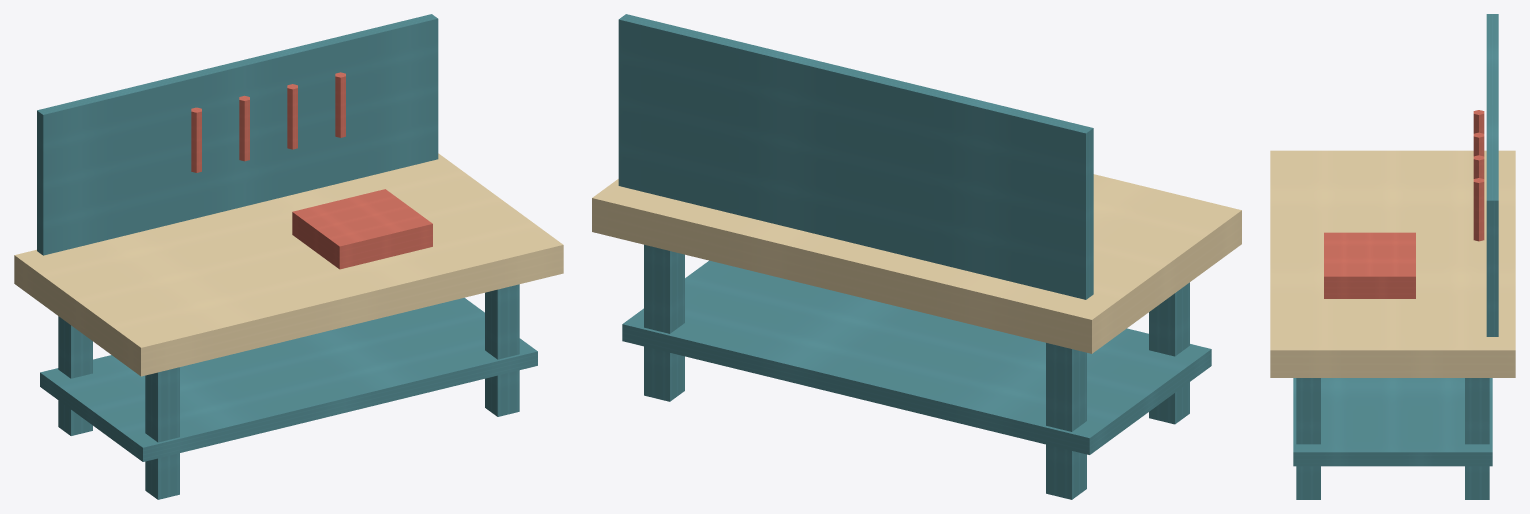
File: atlas100-s072-a06.lod2.glb
The picture shows the model from 3 angles, left to right: view 1: azimuth 30°, elevation 25°; view 2: azimuth 150°, elevation 25°; view 3: azimuth 270°, elevation 25°; orthographic projection. The views are drawn at different scales.
Parts seen in each view (by area): view 1: atlas100-s072-a06:part-004, atlas100-s072-a06:part-006, atlas100-s072-a06:part-005, atlas100-s072-a06:part-012, atlas100-s072-a06:part-003, atlas100-s072-a06:part-001, atlas100-s072-a06:part-000, atlas100-s072-a06:part-009, atlas100-s072-a06:part-010, atlas100-s072-a06:part-011, atlas100-s072-a06:part-008; view 2: atlas100-s072-a06:part-006, atlas100-s072-a06:part-005, atlas100-s072-a06:part-004, atlas100-s072-a06:part-000, atlas100-s072-a06:part-002, atlas100-s072-a06:part-001; view 3: atlas100-s072-a06:part-004, atlas100-s072-a06:part-005, atlas100-s072-a06:part-012, atlas100-s072-a06:part-006, atlas100-s072-a06:part-002, atlas100-s072-a06:part-003, atlas100-s072-a06:part-011.
Part boxes in pixels (left/top/right/bottom): atlas100-s072-a06:part-004: left=14, top=153, right=563, bottom=376; atlas100-s072-a06:part-006: left=37, top=14, right=438, bottom=255; atlas100-s072-a06:part-005: left=40, top=297, right=537, bottom=461; atlas100-s072-a06:part-012: left=292, top=189, right=432, bottom=269; atlas100-s072-a06:part-003: left=485, top=284, right=519, bottom=416; atlas100-s072-a06:part-001: left=145, top=367, right=179, bottom=499; atlas100-s072-a06:part-000: left=58, top=316, right=92, bottom=435; atlas100-s072-a06:part-009: left=239, top=95, right=249, bottom=161; atlas100-s072-a06:part-010: left=287, top=84, right=297, bottom=149; atlas100-s072-a06:part-011: left=335, top=72, right=345, bottom=137; atlas100-s072-a06:part-008: left=191, top=107, right=201, bottom=172; atlas100-s072-a06:part-006: left=618, top=14, right=1093, bottom=299; atlas100-s072-a06:part-005: left=622, top=260, right=1211, bottom=454; atlas100-s072-a06:part-004: left=592, top=174, right=1241, bottom=353; atlas100-s072-a06:part-000: left=1046, top=343, right=1086, bottom=499; atlas100-s072-a06:part-002: left=644, top=244, right=684, bottom=401; atlas100-s072-a06:part-001: left=1149, top=282, right=1189, bottom=424; atlas100-s072-a06:part-004: left=1270, top=150, right=1515, bottom=377; atlas100-s072-a06:part-005: left=1293, top=378, right=1492, bottom=466; atlas100-s072-a06:part-012: left=1324, top=232, right=1415, bottom=298; atlas100-s072-a06:part-006: left=1486, top=14, right=1498, bottom=336; atlas100-s072-a06:part-002: left=1465, top=378, right=1489, bottom=499; atlas100-s072-a06:part-003: left=1296, top=378, right=1320, bottom=499; atlas100-s072-a06:part-011: left=1473, top=178, right=1484, bottom=241.
Size of the model in its own units: 3.08 by 2.21 by 1.6.
3 materials, 3 textured.
